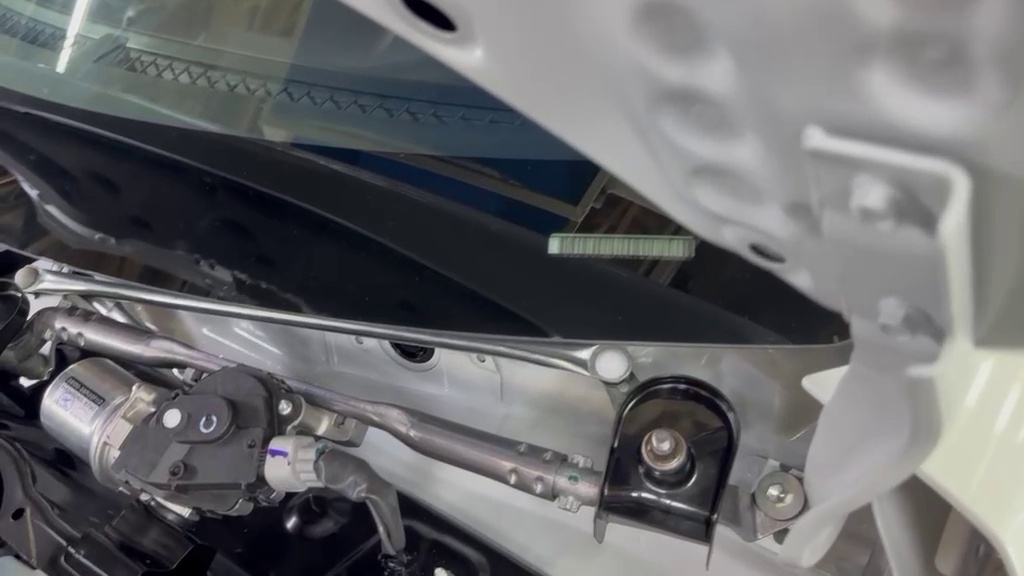barcode: (574, 370, 752, 576)
hinge: (523, 218, 727, 283)
